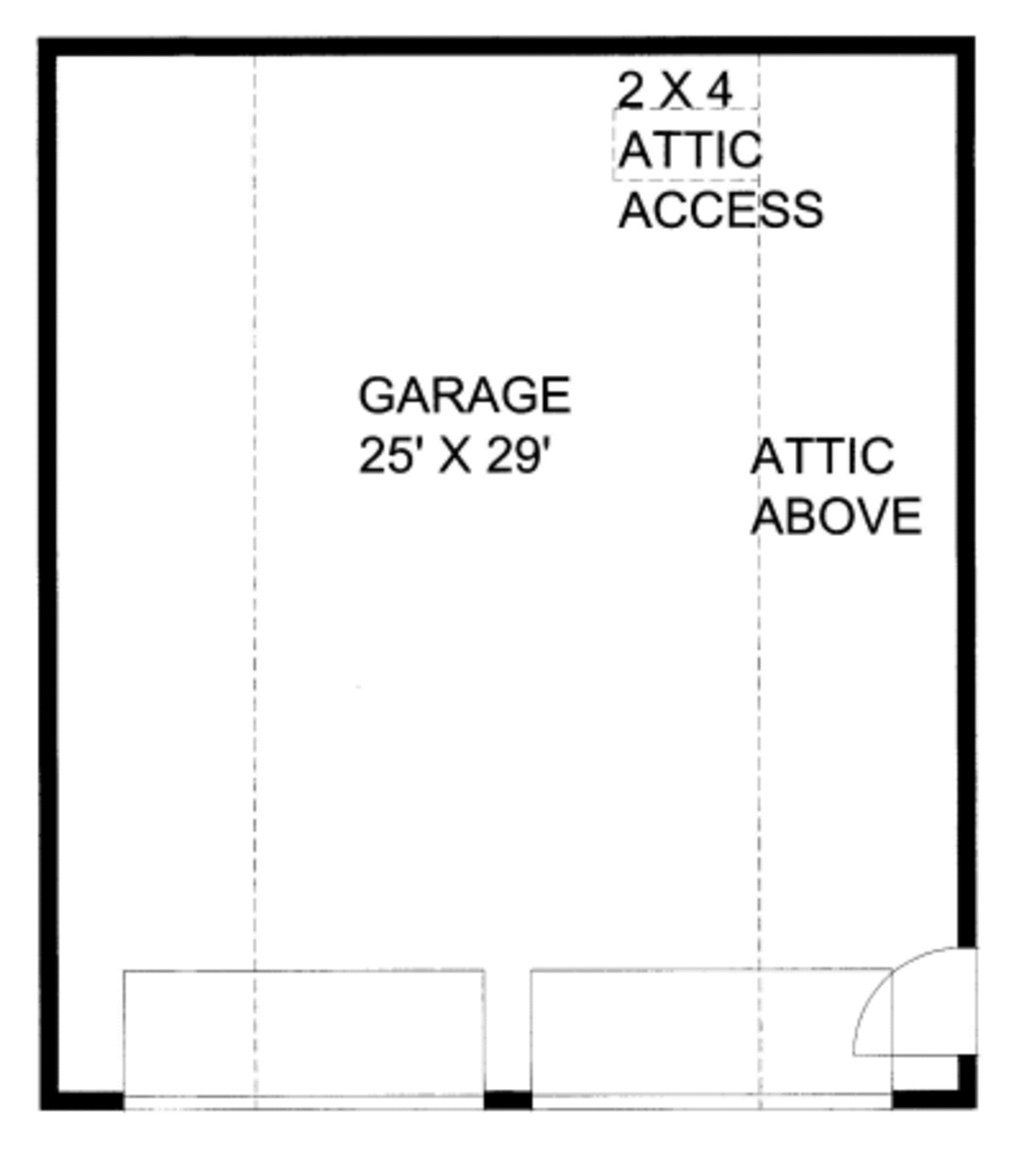door: (847, 930, 991, 1063)
